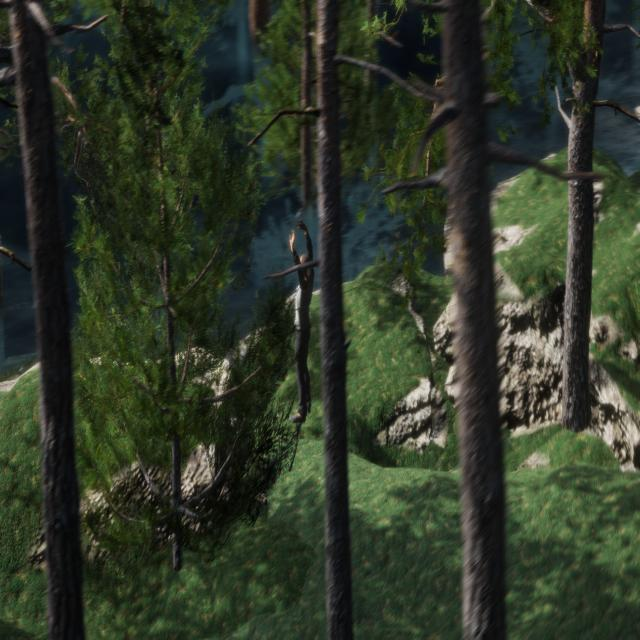Human: (284, 212, 318, 430)
